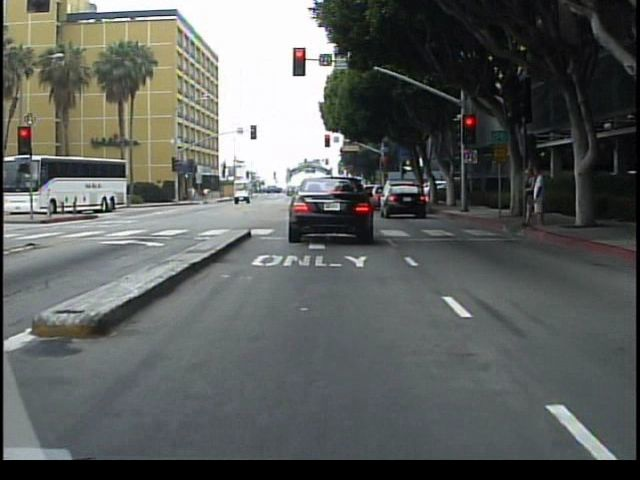person: (527, 167, 549, 234), (519, 163, 534, 231)
